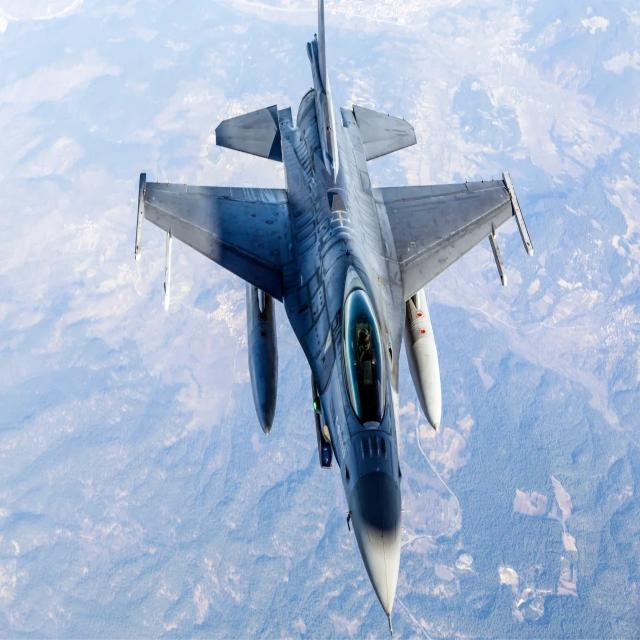aircraft: (93, 49, 564, 640)
